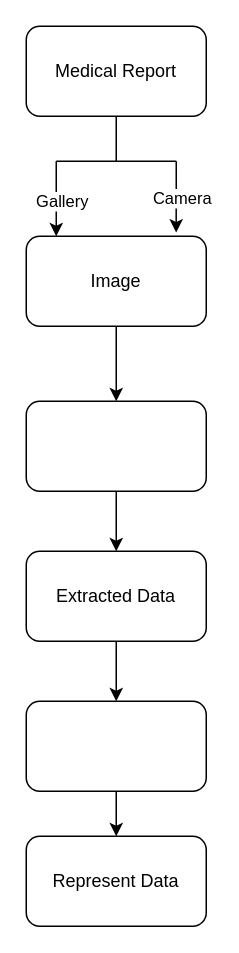
Image size: 239x953. Some labels were removed from this diagram. The centre of each missing label's shape, as x and y in pixels:
"Data Analysis" goes at (115,745).
"OCR" goes at (115,445).
